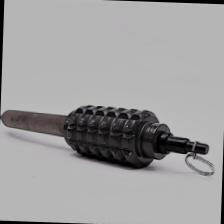POMZ2: (0, 92, 220, 191)
